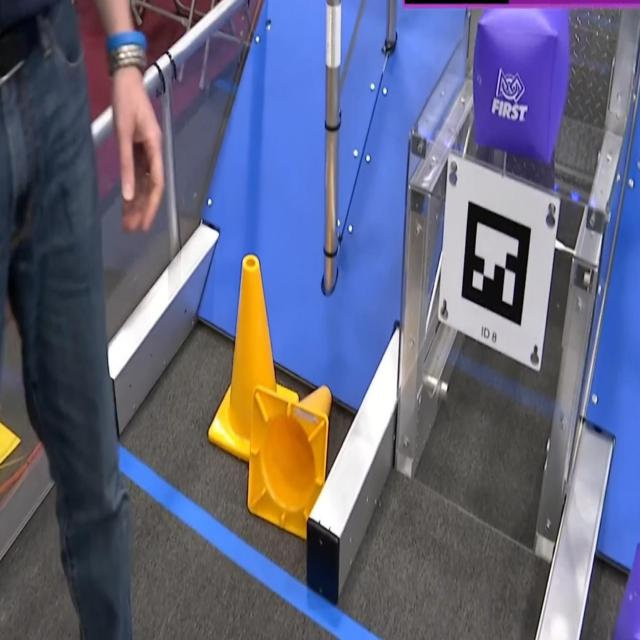frc_cone: (209, 253, 297, 471), (248, 378, 330, 533)
frc_cube: (475, 0, 569, 165)
